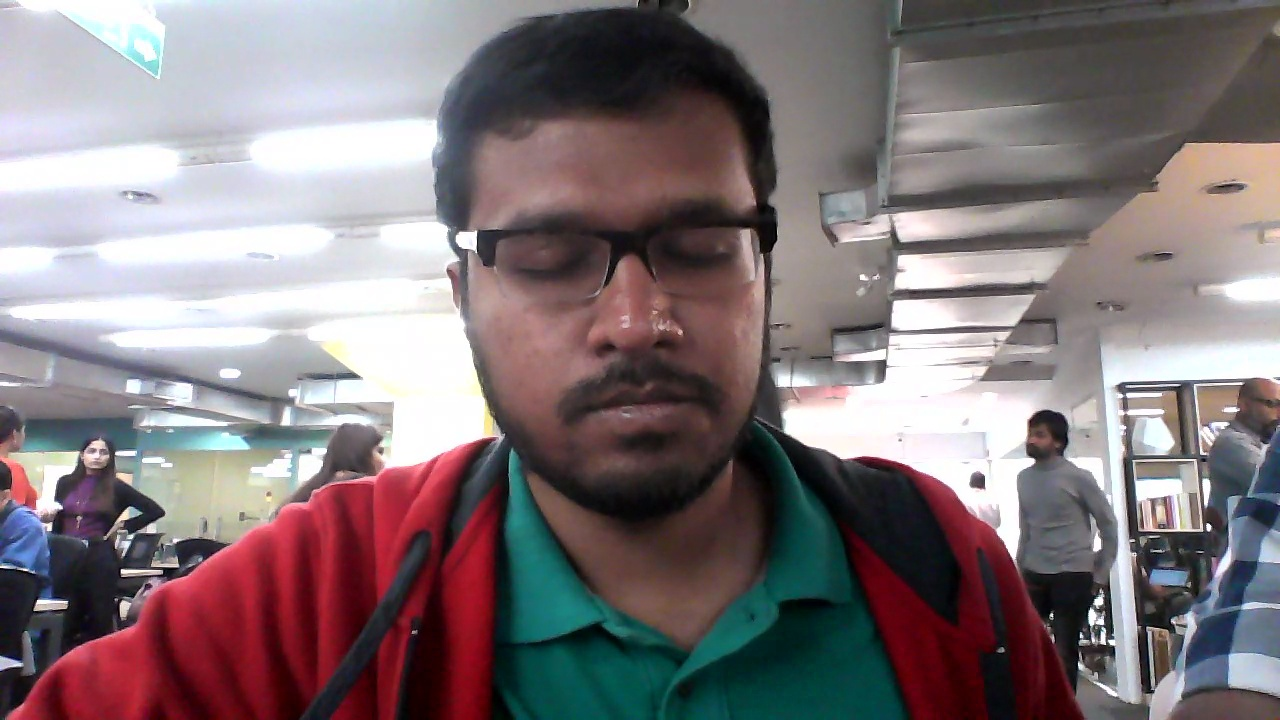closed: (445, 28, 769, 522)
